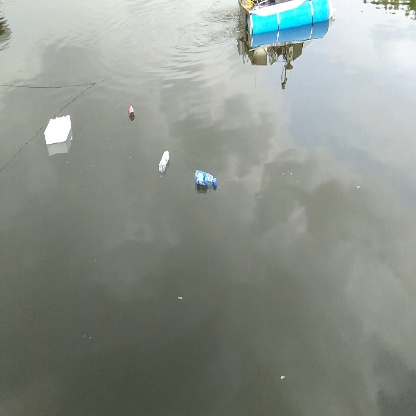bottle: (189, 164, 220, 192)
plastic-garbage: (41, 115, 78, 147)
